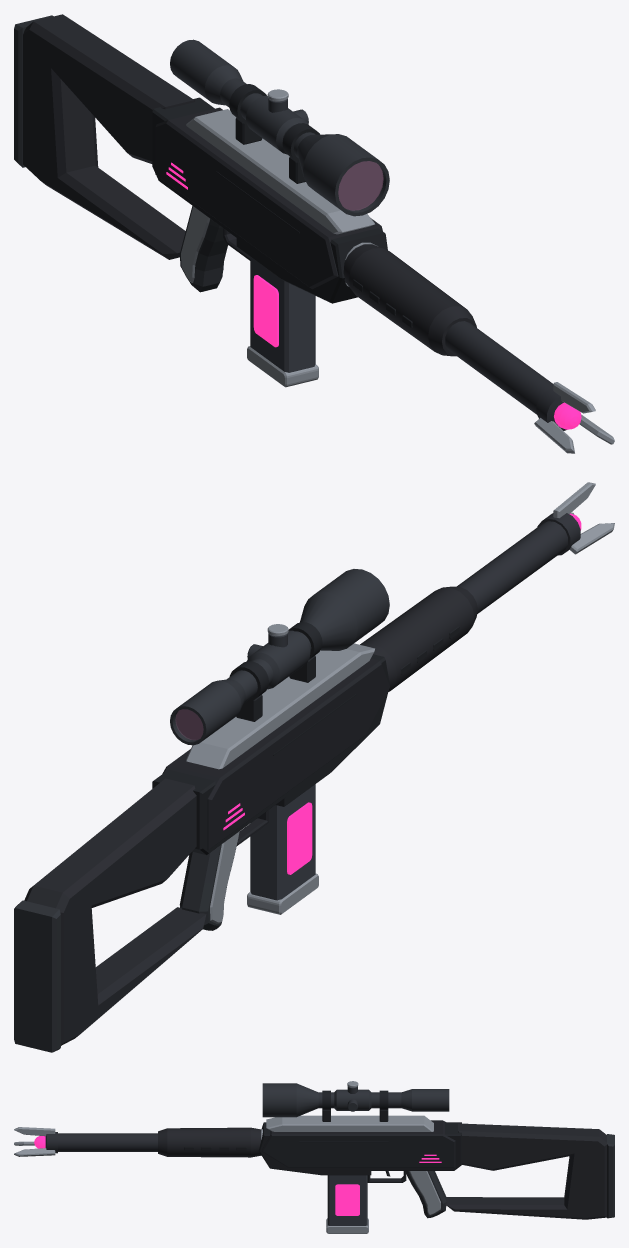
The model's file is scifi-rifle.glb.
The picture shows the model from 3 angles, top to bottom: view 1: azimuth 30°, elevation 25°; view 2: azimuth 150°, elevation 25°; view 3: azimuth 270°, elevation 25°; orthographic projection. The views are drawn at different scales.
Parts seen in each view (by area): view 1: Stock, Receiver, Optic, Handguard, Magazine, Barrel, Grip, Muzzle; view 2: Stock, Receiver, Optic, Magazine, Handguard, Barrel, Grip, Muzzle; view 3: Receiver, Stock, Optic, Handguard, Magazine, Barrel, Grip, Muzzle.
Boxes of the visible parts, x1,y1,x2,y2 form: Stock: (14, 14, 194, 259); Receiver: (152, 97, 387, 303); Optic: (170, 39, 389, 216); Handguard: (343, 242, 476, 356); Magazine: (247, 256, 318, 387); Barrel: (445, 321, 553, 414); Grip: (179, 206, 228, 292); Muzzle: (534, 382, 614, 453); Stock: (14, 778, 206, 1052); Receiver: (152, 643, 389, 854); Optic: (170, 569, 389, 745); Magazine: (247, 784, 318, 914); Handguard: (360, 586, 477, 691); Barrel: (457, 521, 567, 613); Grip: (179, 831, 239, 930); Muzzle: (537, 482, 614, 555); Receiver: (258, 1115, 461, 1182); Stock: (445, 1123, 614, 1219); Optic: (262, 1081, 449, 1121); Handguard: (158, 1127, 262, 1157); Magazine: (326, 1175, 368, 1233); Barrel: (58, 1133, 157, 1151); Grip: (405, 1171, 446, 1218); Muzzle: (14, 1127, 57, 1156).
Size of the model in its own units: 0.057 by 0.258 by 0.9589.
